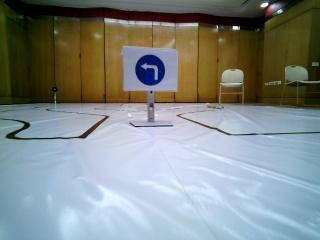left: (126, 50, 173, 90)
